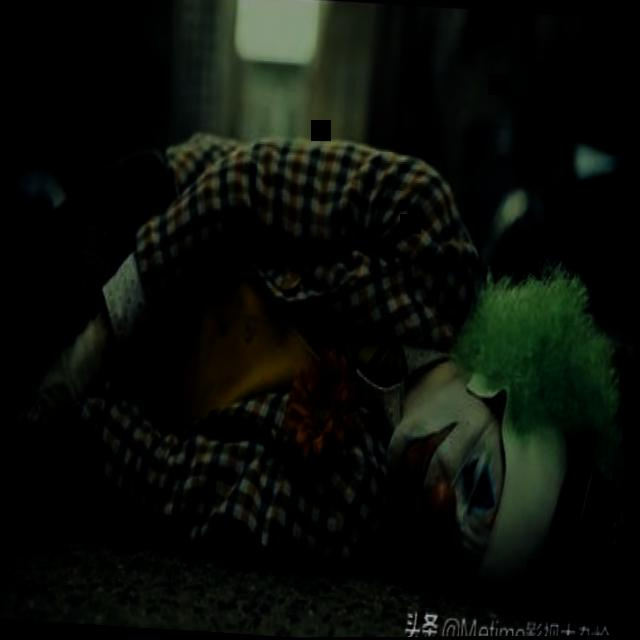Fall-Detected: (0, 84, 639, 612)
